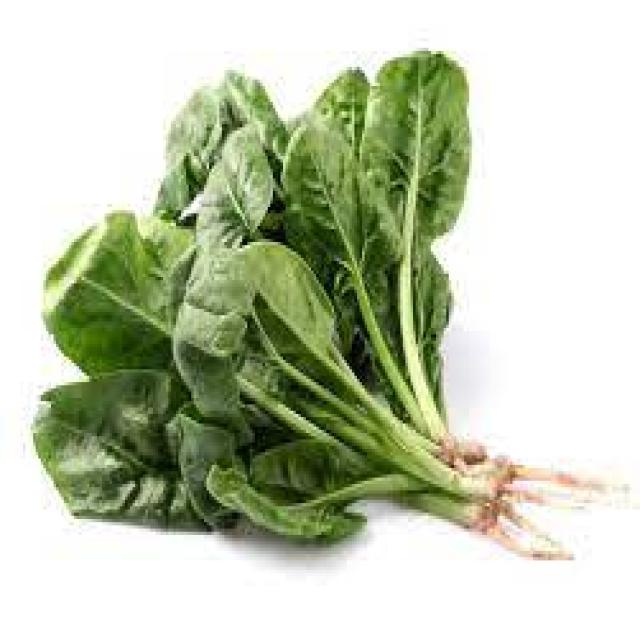Wet Waste: (21, 44, 519, 572)
